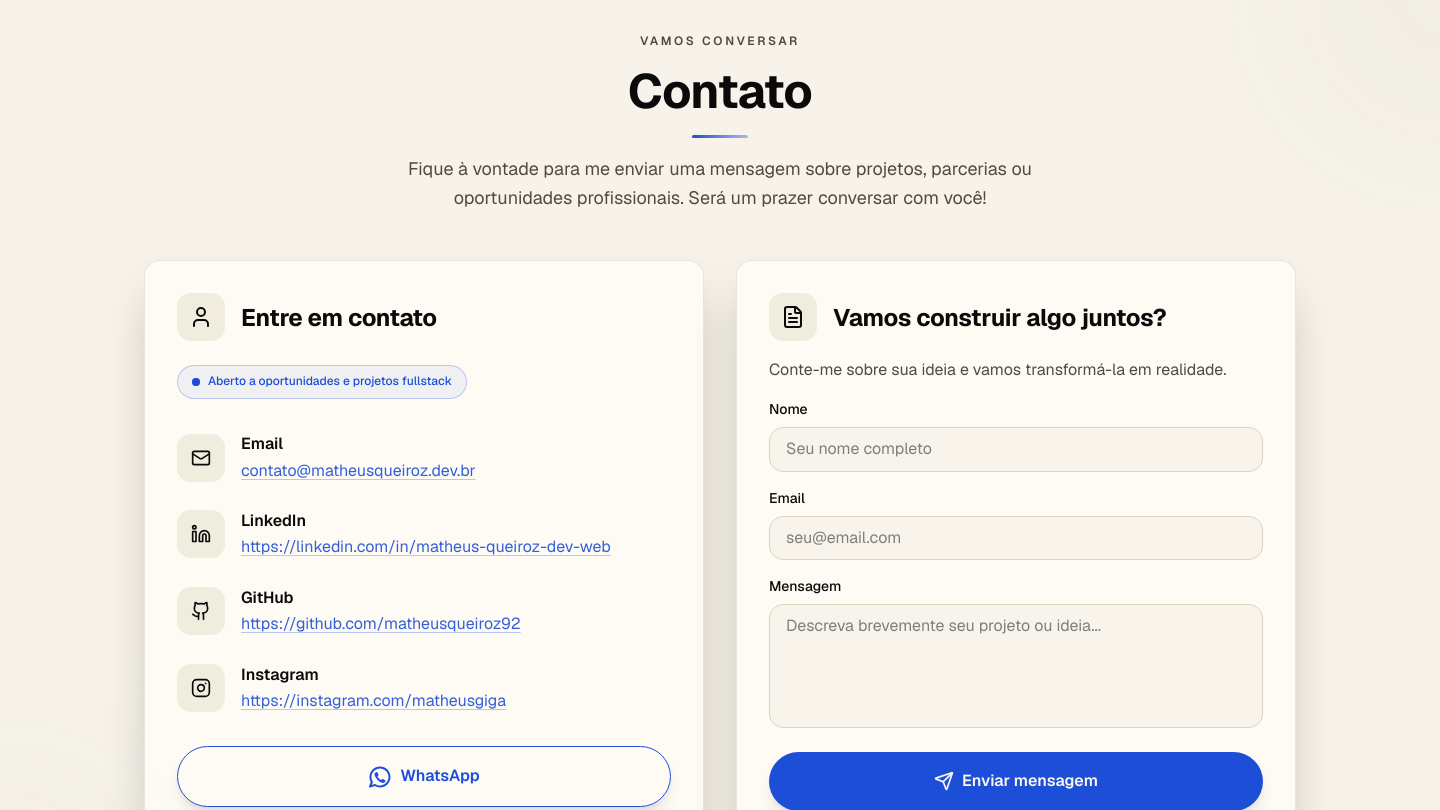
Test: ContactSection › shows validation errors for invalid form data
Type "A" into the field labelled "Nome".
click(1016, 450); type("A")  # box [769,428,1263,472]
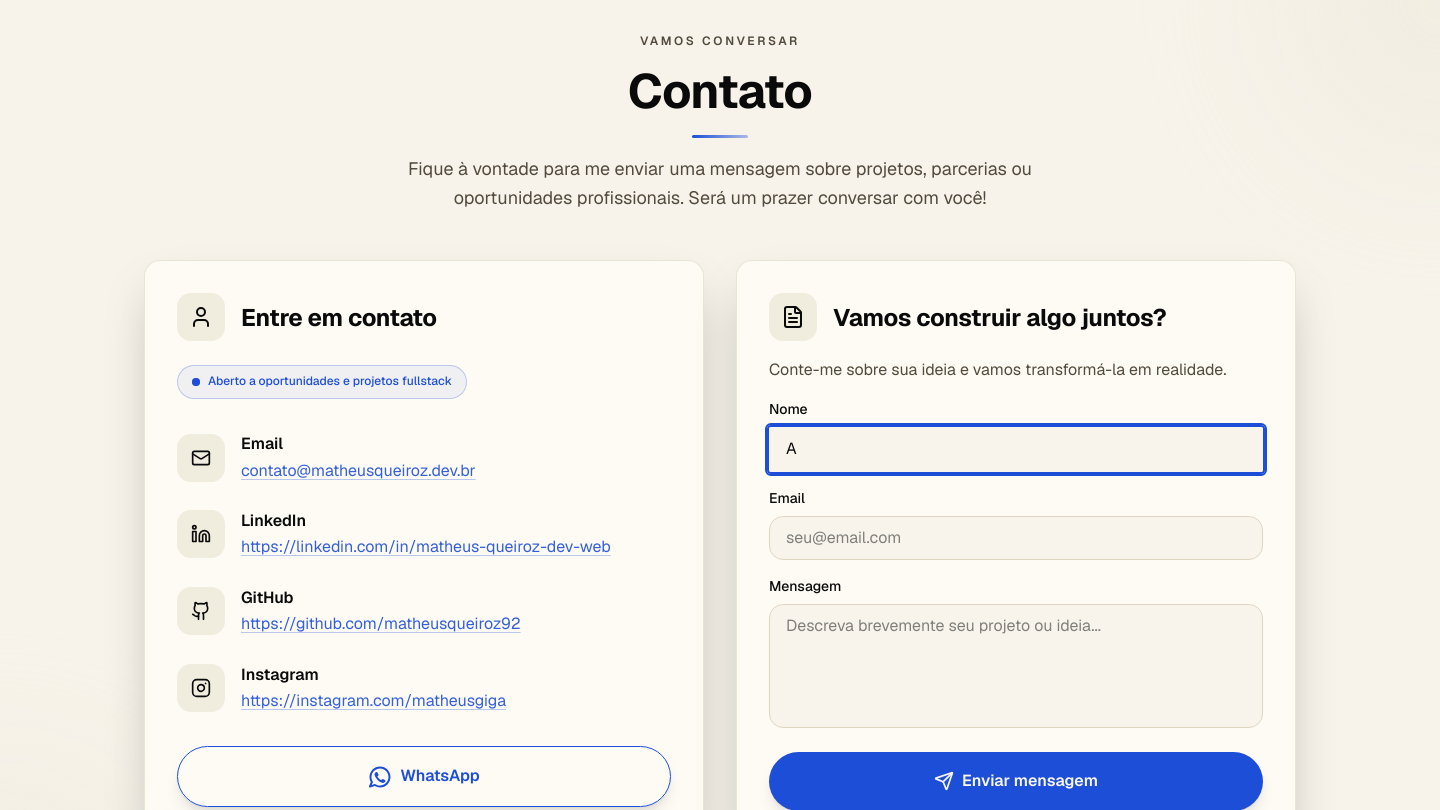
Type "email-invalido" into the field labelled "Email".
click(1016, 538); type("email-invalido")  # box [769,516,1263,560]
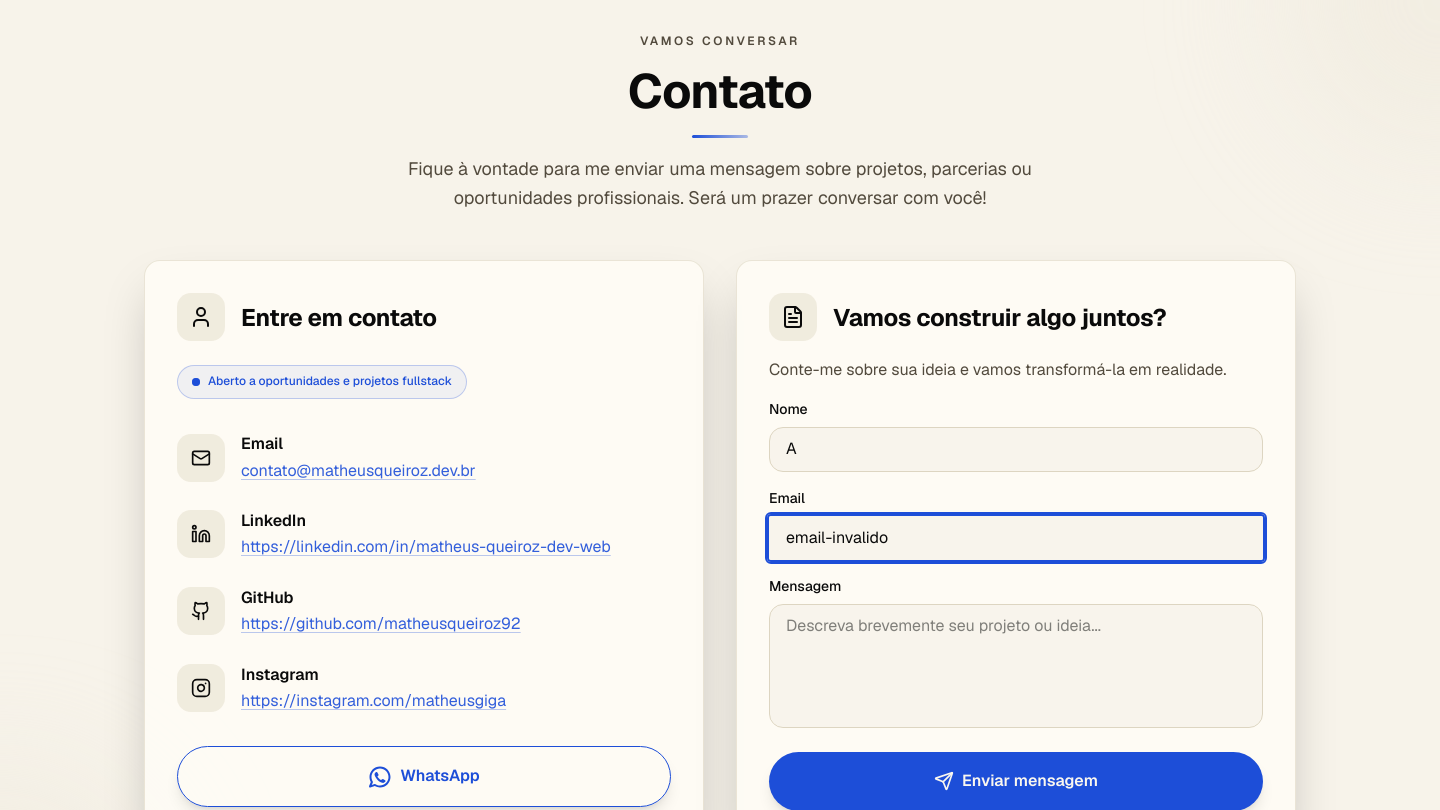
Type "curta" into the text box labelled "Mensagem".
click(1016, 666); type("curta")  # box [769,604,1263,728]
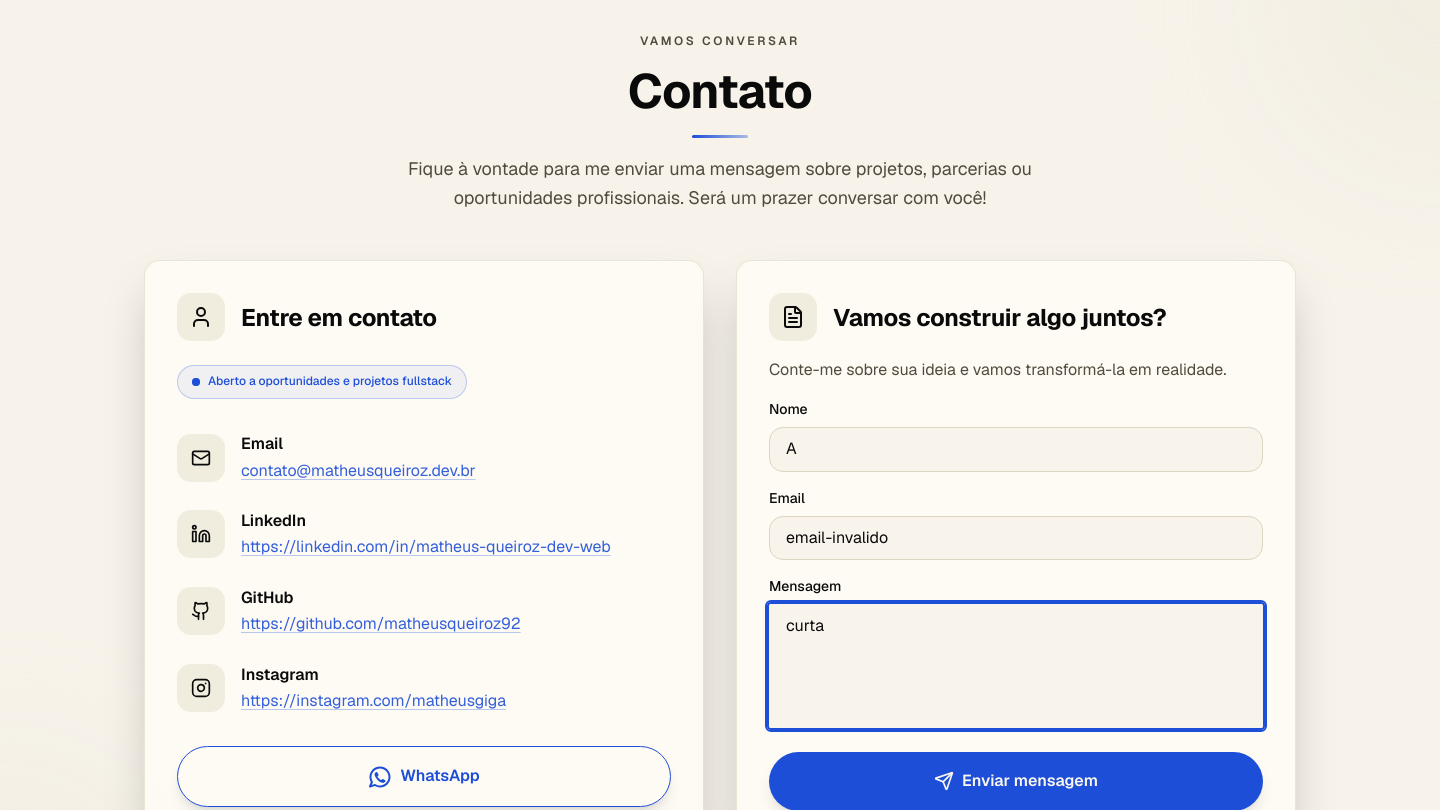
Click the button "Enviar mensagem".
click(1016, 781)  # box [769,752,1263,809]
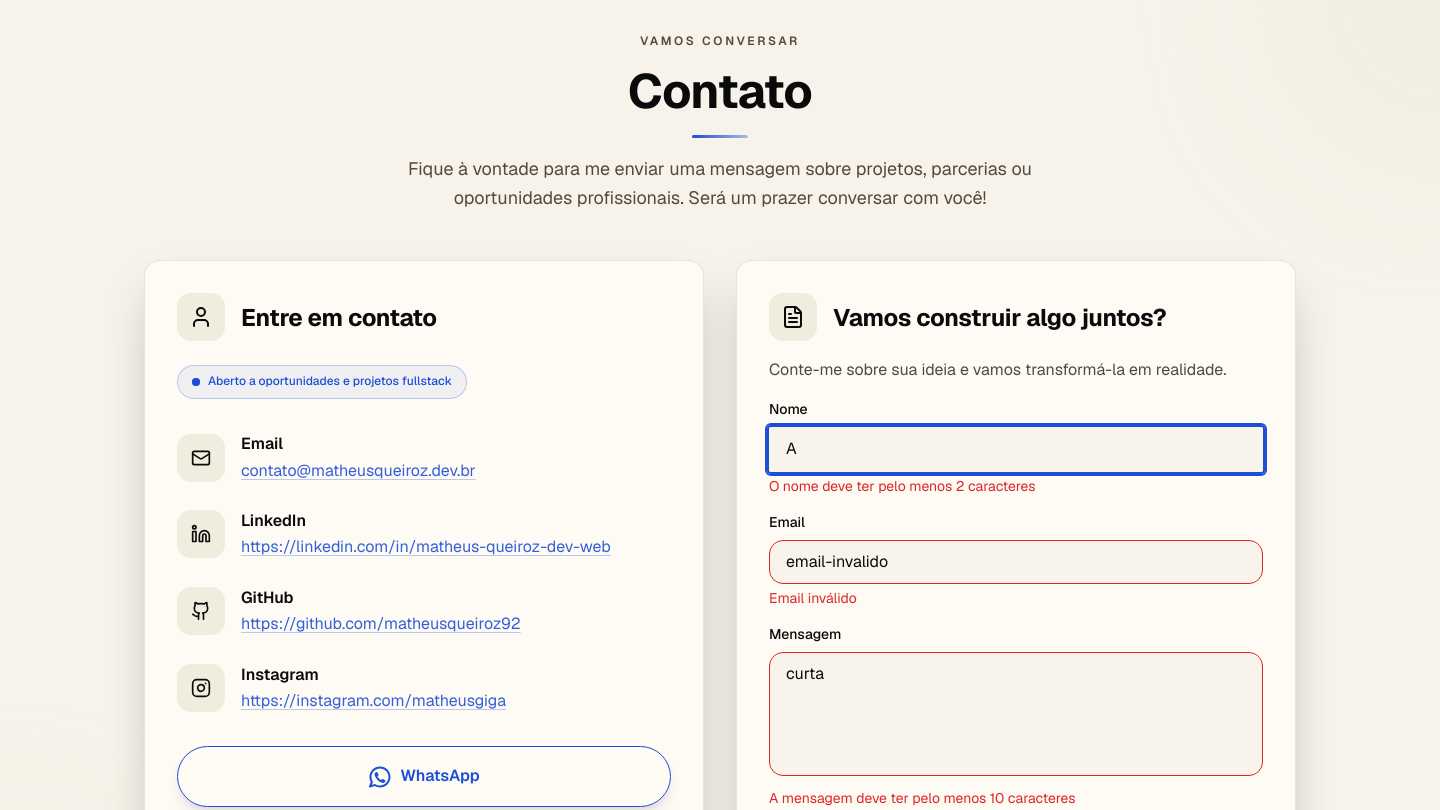
Expected: the text "O nome deve ter pelo menos 2 caracteres" is shown, [769,477,1036,495]
Expected: the text "Email inválido" is shown, [769,589,857,607]
Expected: the text "A mensagem deve ter pelo menos 10 caracteres" is shown, [769,789,1076,807]
